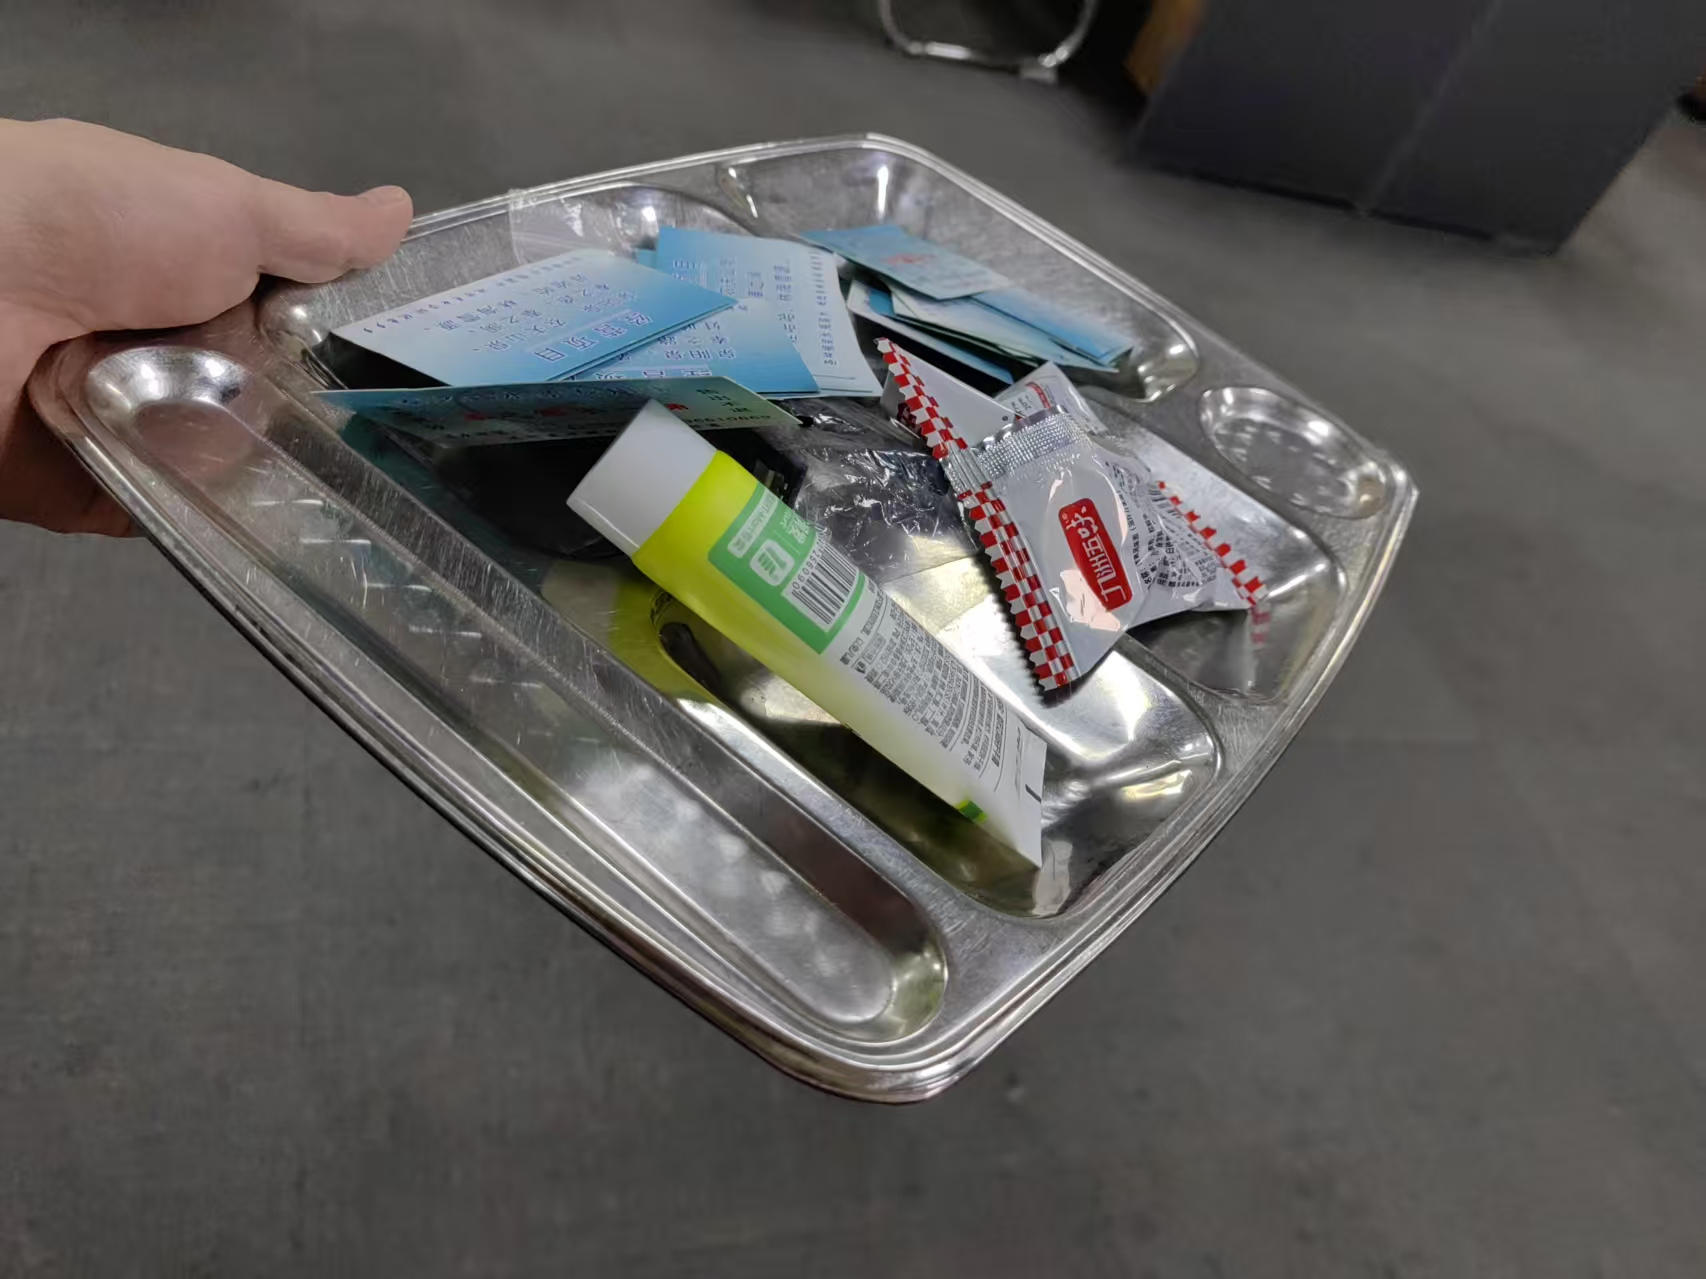plate: (28, 130, 1425, 1102)
severe: (305, 221, 1264, 874)
